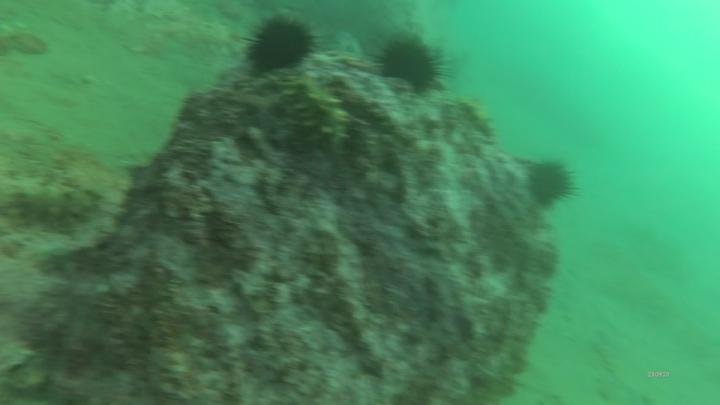echinus: (241, 15, 324, 77), (377, 31, 450, 92), (527, 157, 585, 211)
holothurian: (277, 74, 355, 153), (12, 184, 100, 230)
